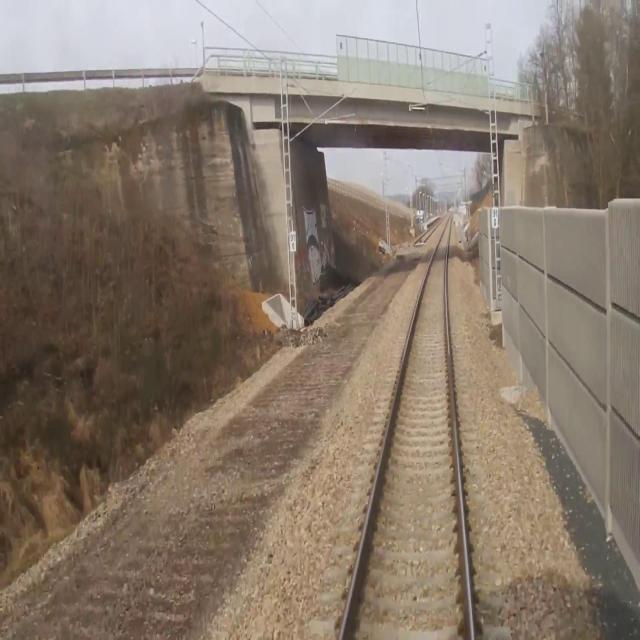rail-track: (342, 213, 470, 639)
